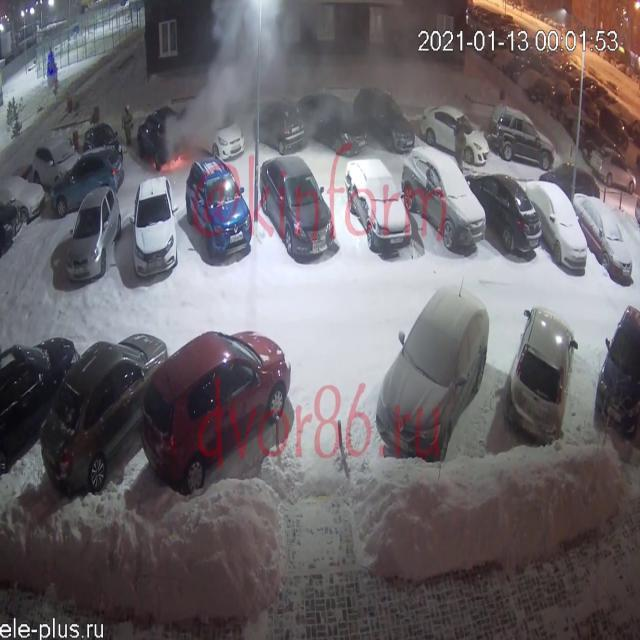Smoke: (160, 0, 420, 150)
